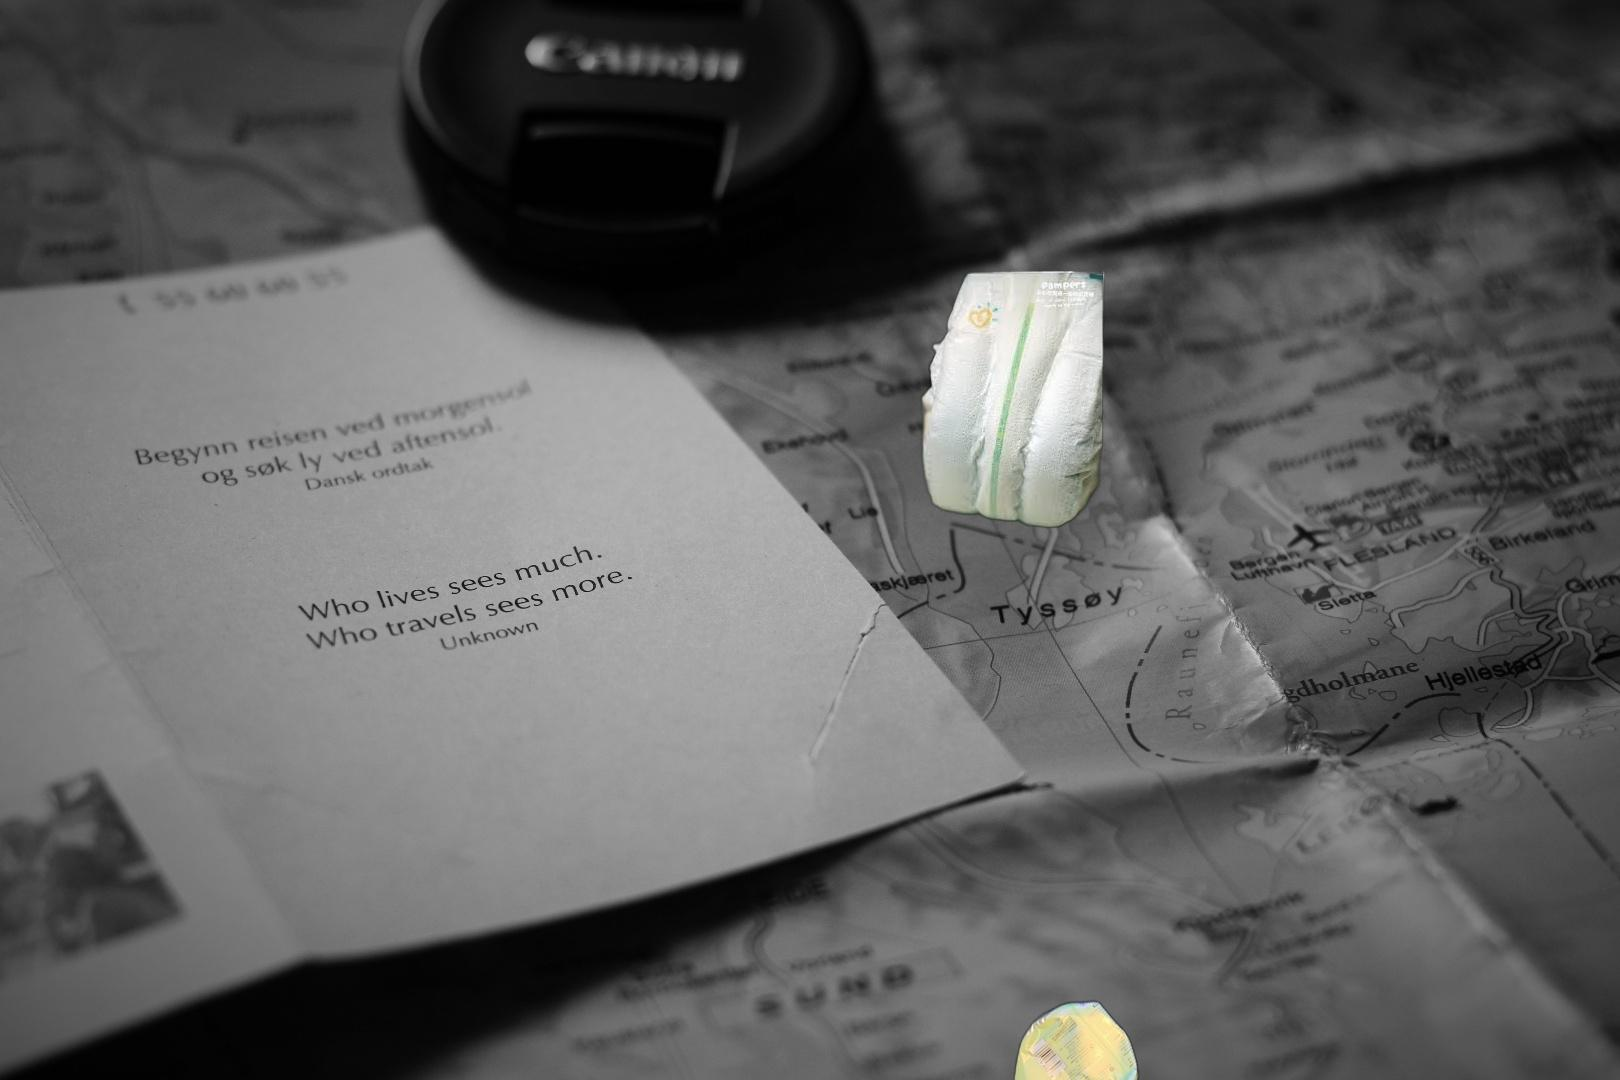metal-cans: (1009, 554, 1436, 1080)
trash: (915, 271, 1105, 536)
